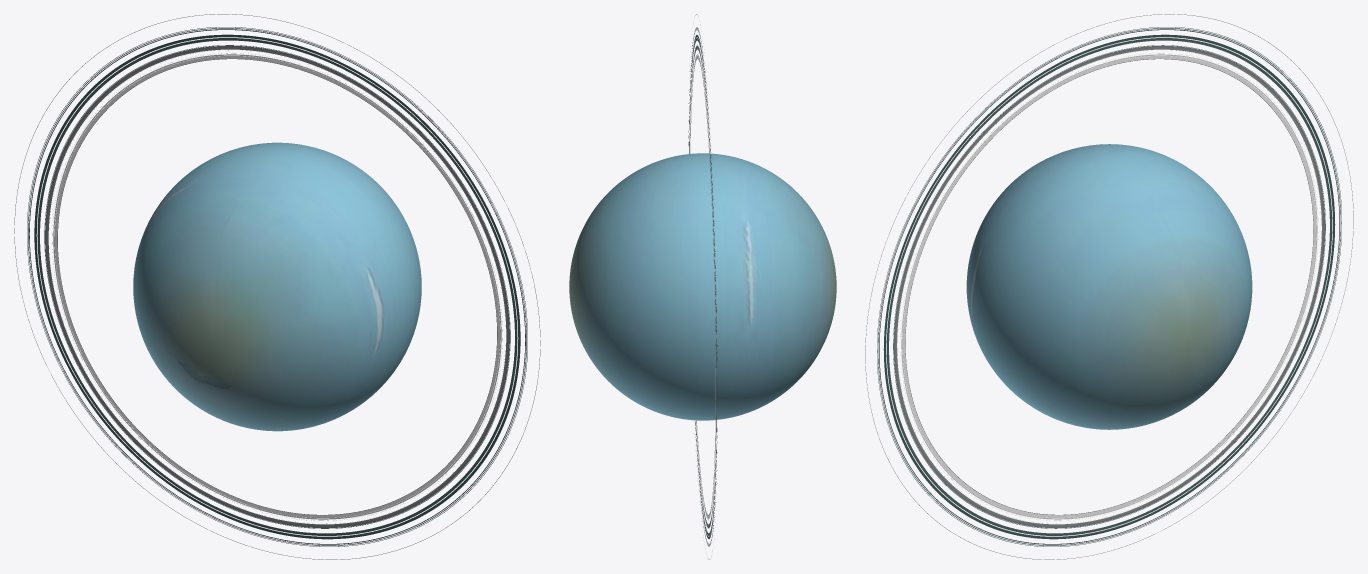
File: uranus.glb
The picture shows the model from 3 angles, left to right: view 1: azimuth 30°, elevation 25°; view 2: azimuth 150°, elevation 25°; view 3: azimuth 270°, elevation 25°; orthographic projection. The views are drawn at different scales.
Visible parts, largest first — view 1: node_id30, node_id32; view 2: node_id30, node_id32; view 3: node_id30, node_id32.
Part boxes in pixels (x1,y1,x2,y2): node_id30: (133, 142, 421, 431); node_id32: (14, 14, 540, 559); node_id30: (569, 153, 836, 420); node_id32: (688, 14, 718, 559); node_id30: (966, 144, 1252, 429); node_id32: (865, 14, 1353, 559).
Bounding box in the file's own units: 0.2803 × 0.512 × 0.4285.
Materials: 2 (2 with a texture image).
